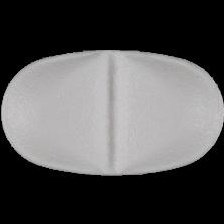45802-594: (0, 0, 224, 224)
